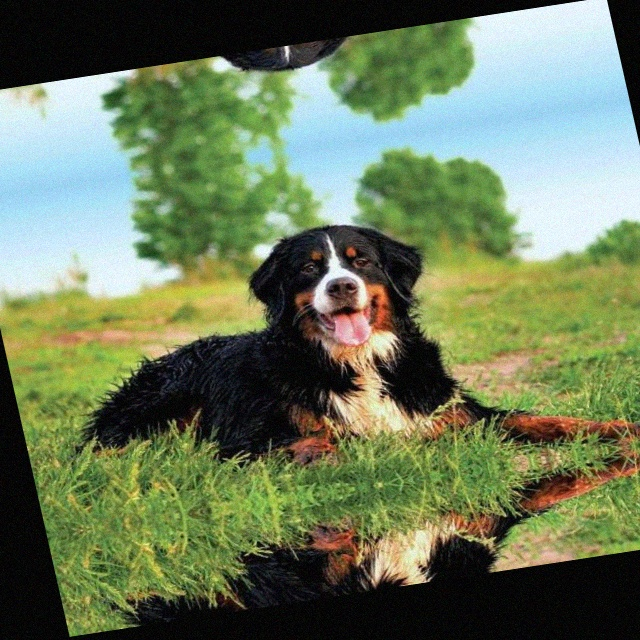dog: (204, 198, 449, 379), (166, 32, 386, 100)
